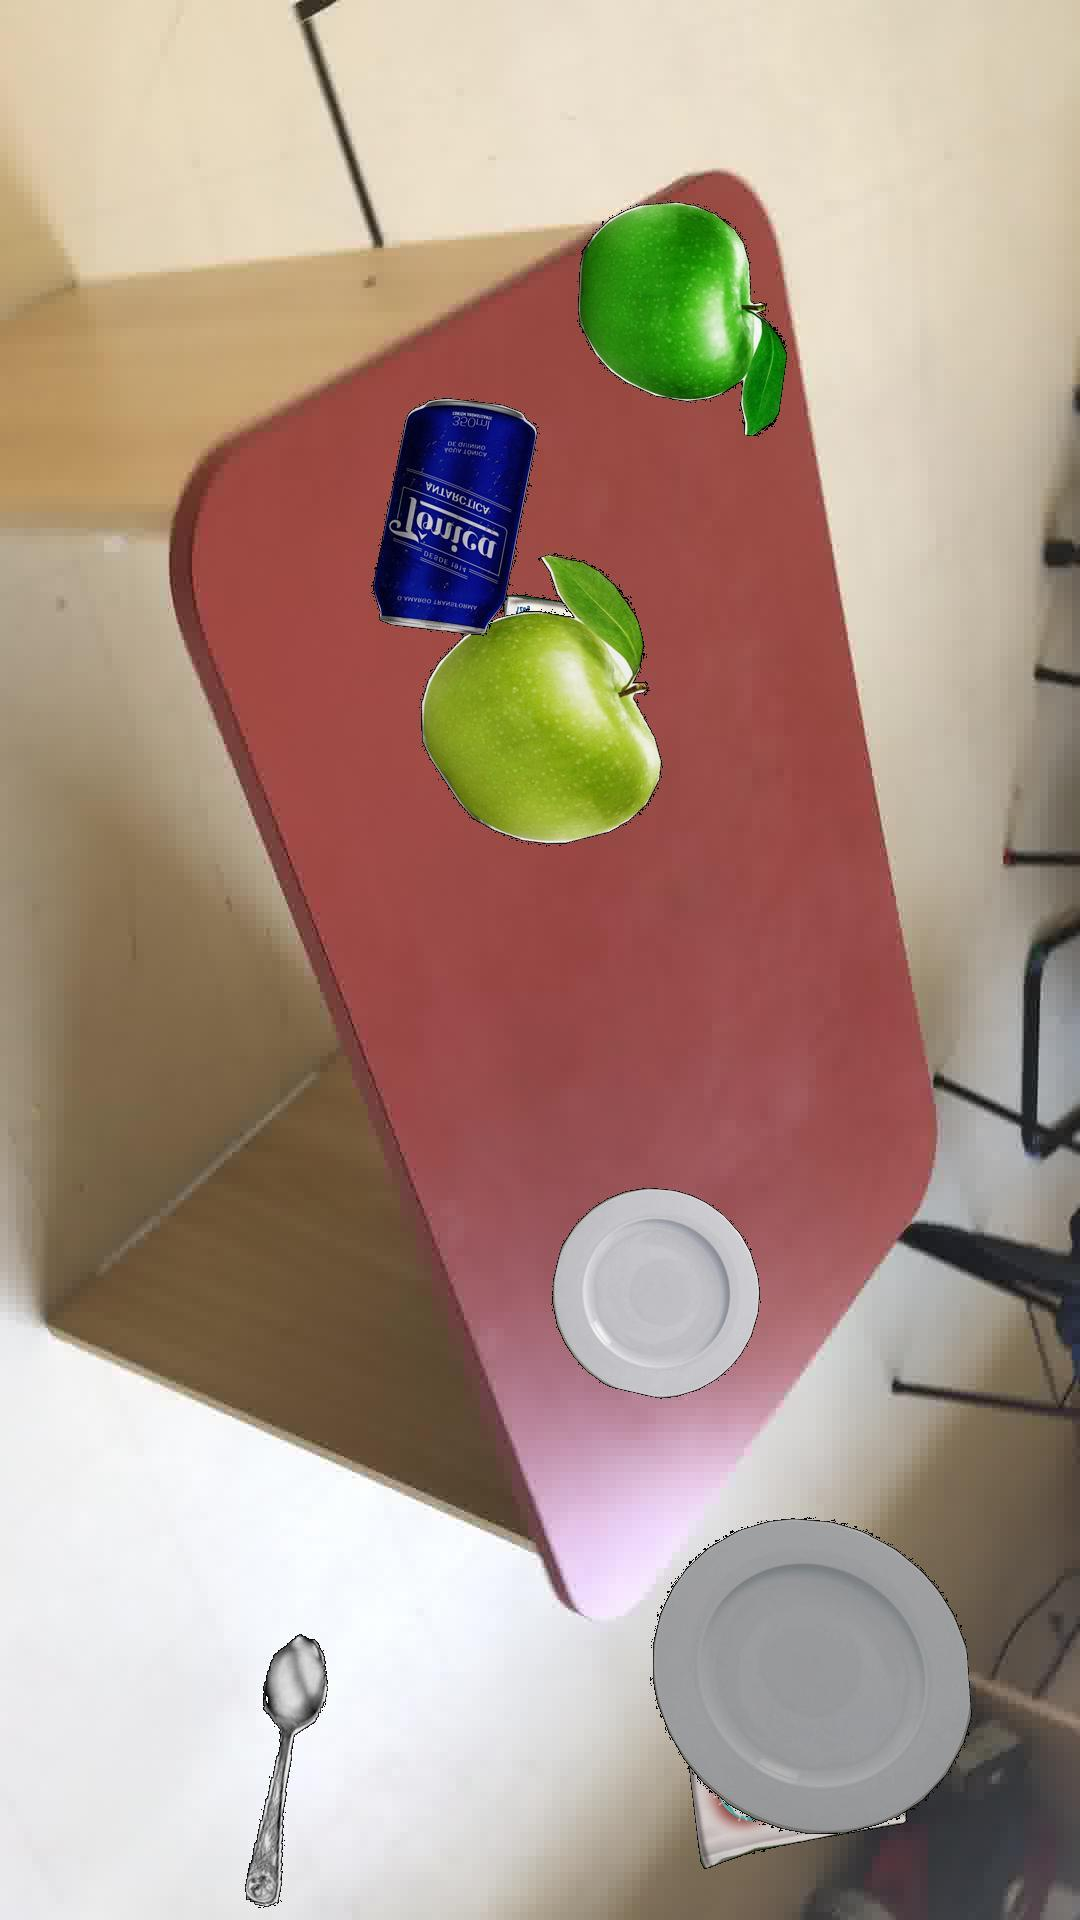corn flakes: (687, 1767, 906, 1867), (500, 592, 571, 616)
green apple: (419, 551, 661, 843), (576, 200, 786, 434)
plate: (650, 1516, 971, 1833), (550, 1187, 758, 1398)
spoon: (244, 1633, 327, 1905)
tonic: (369, 397, 537, 633)
